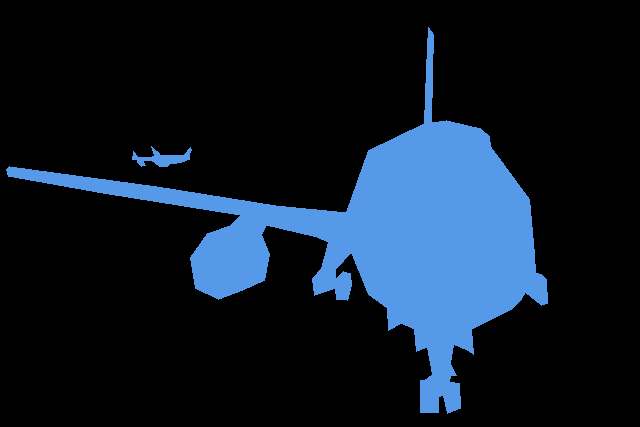Airplane: (6, 27, 548, 413), (132, 146, 191, 167)
